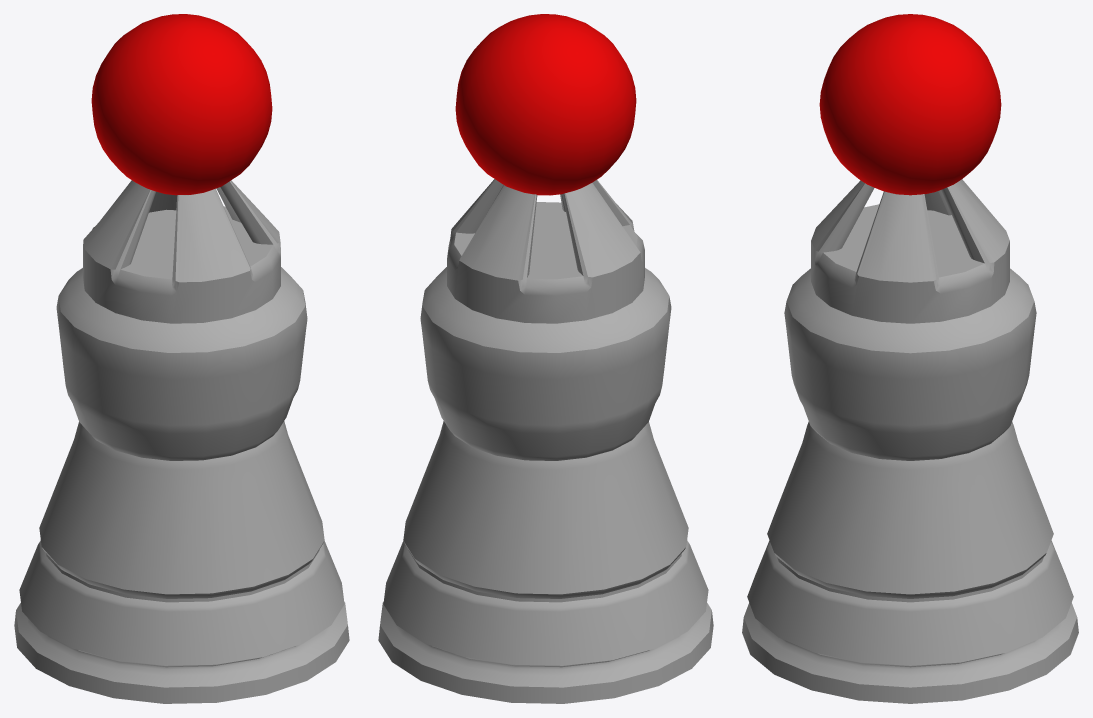
The model's file is path 2.fbx.
The picture shows the model from 3 angles, left to right: view 1: azimuth 30°, elevation 25°; view 2: azimuth 150°, elevation 25°; view 3: azimuth 270°, elevation 25°; orthographic projection.
Visible parts, largest first — view 1: magic_orb_path_2; view 2: magic_orb_path_2; view 3: magic_orb_path_2.
Boxes of the visible parts, x1=… form: magic_orb_path_2: x1=14, y1=14, x2=349, y2=703; magic_orb_path_2: x1=378, y1=14, x2=713, y2=703; magic_orb_path_2: x1=742, y1=14, x2=1078, y2=703.
Size of the model in its own units: 194 by 388 by 194.
